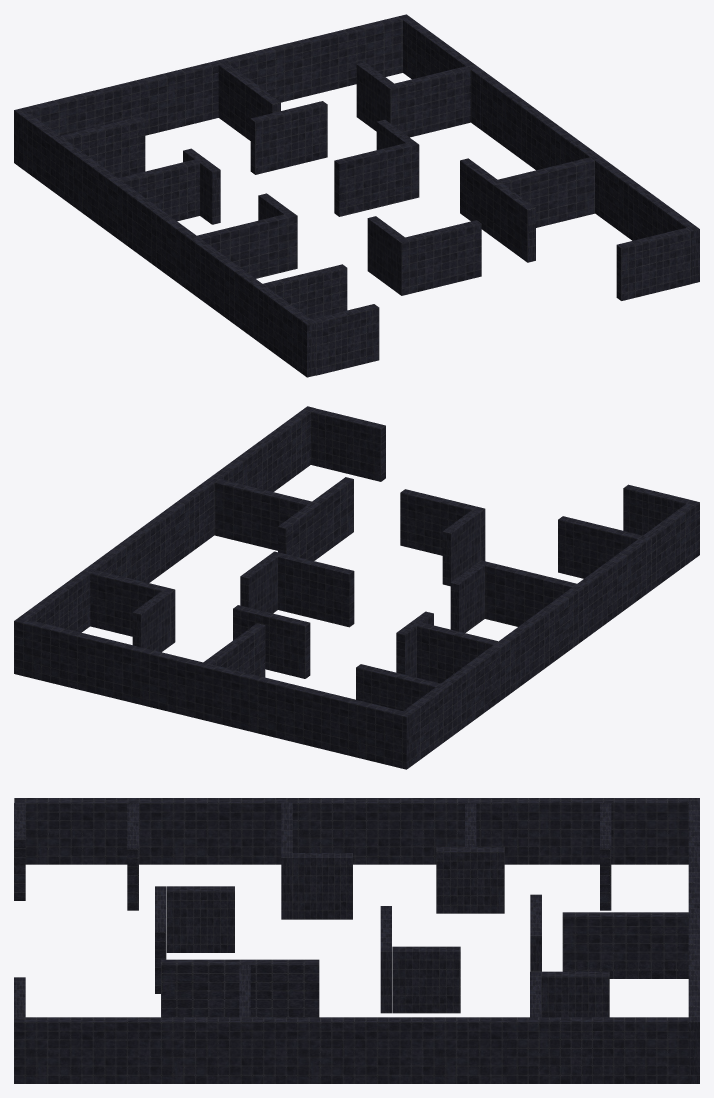
3 views of the same model, one above another, from view 1: azimuth 30°, elevation 25°; view 2: azimuth 150°, elevation 25°; view 3: azimuth 270°, elevation 25° (orthographic). The views are drawn at different scales.
Visible parts, largest first — view 1: polySurface8, polySurface9, polySurface11, pCube79, pCube70, pCube62, pCube75, pCube59, pCube57, pCube67, pCube71, pCube68 (+7 smaller); view 2: polySurface9, polySurface8, polySurface11, pCube79, pCube62, pCube67, pCube71, pCube59, pCube75, pCube70, pCube57, pCube69 (+7 smaller); view 3: polySurface11, polySurface8, pCube59, pCube54, pCube79, pCube62, pCube61, pCube72, polySurface9, pCube76, pCube69, pCube74 (+7 smaller).
Part boxes in pixels (box(x1,y1,x2,y2)): polySurface8: box(19, 111, 315, 377); polySurface9: box(14, 14, 410, 166); polySurface11: box(403, 18, 699, 283); pCube79: box(334, 119, 419, 216); pCube70: box(396, 220, 481, 295); pCube62: box(197, 193, 297, 278); pCube75: box(386, 66, 470, 137); pCube59: box(460, 158, 535, 262); pCube57: box(250, 101, 327, 174); pCube67: box(616, 227, 691, 300); pCube71: box(498, 157, 594, 227); pCube68: box(311, 304, 379, 375); polySurface9: box(14, 617, 411, 769); polySurface8: box(403, 500, 699, 765); polySurface11: box(19, 406, 315, 632); pCube79: box(240, 551, 354, 627); pCube62: box(450, 560, 576, 632); pCube67: box(311, 408, 385, 481); pCube71: box(214, 479, 311, 550); pCube59: box(278, 477, 353, 560); pCube75: box(90, 570, 175, 645); pCube70: box(400, 489, 485, 560); pCube57: box(233, 605, 310, 678); pCube69: box(558, 516, 642, 578); polySurface11: box(14, 1017, 688, 1083); polySurface8: box(14, 798, 688, 864); pCube59: box(161, 959, 319, 1017); pCube54: box(562, 912, 688, 978); pCube79: box(380, 906, 460, 1013); pCube62: box(281, 803, 352, 919); pCube61: box(166, 886, 234, 952); pCube72: box(436, 847, 504, 913); polySurface9: box(688, 798, 699, 1083); pCube76: box(541, 971, 609, 1017); pCube69: box(127, 803, 138, 910); pCube74: box(600, 803, 611, 910).
Size of the model in its own units: 114 by 14.74 by 148.
1 material, 1 textured.
